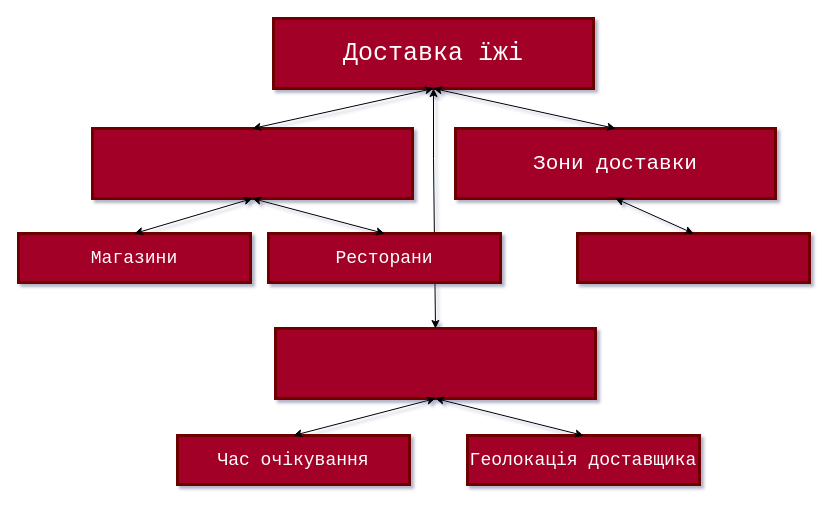
Some shapes in this 834 by 509 pixel diagram are drawn without their labels. The shapes that lost their labels are listed below. From the top down, each one's centre as x and y in pixels, then its label:
At (252,163): "Меню".
At (693,258): "Міста".
At (435,363): "Відстеження замовлення".
